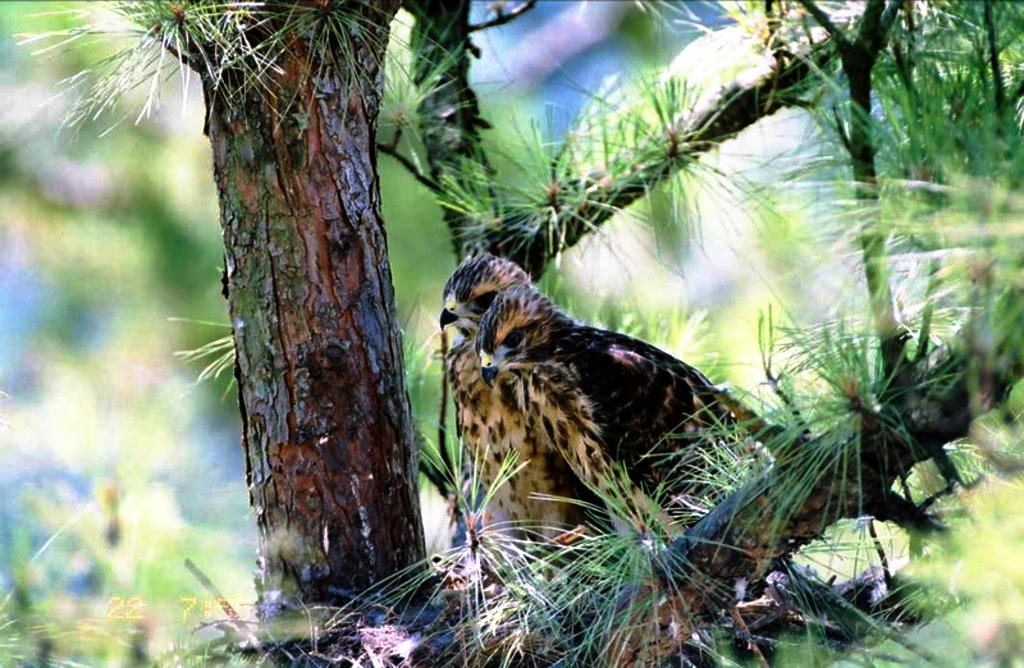Owl: (476, 278, 812, 547), (439, 251, 579, 554)
